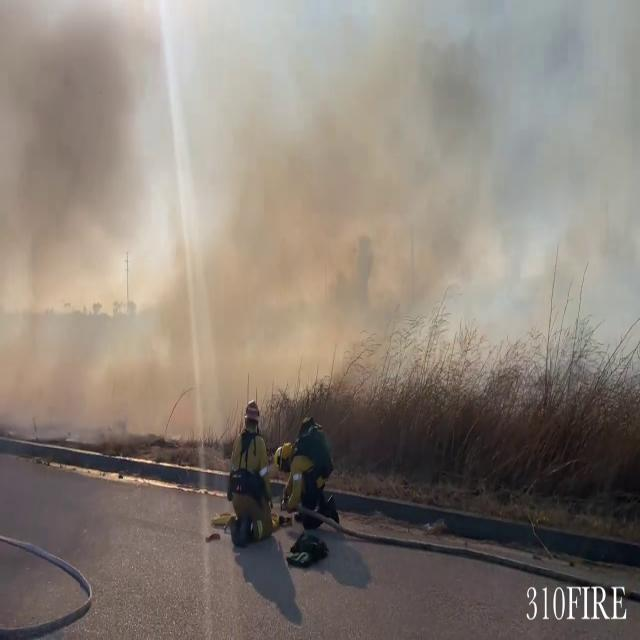Smoke: (0, 1, 640, 416)
